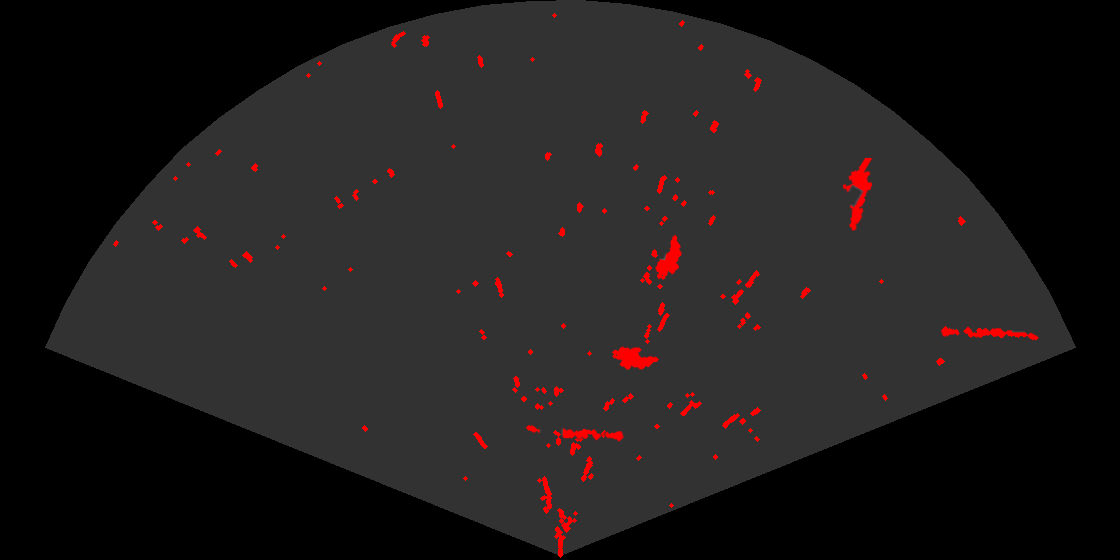AUV: (654, 233, 683, 282), (610, 345, 661, 371)
chain: (524, 424, 624, 443), (940, 324, 1040, 342)
frogman: (841, 158, 874, 233)
